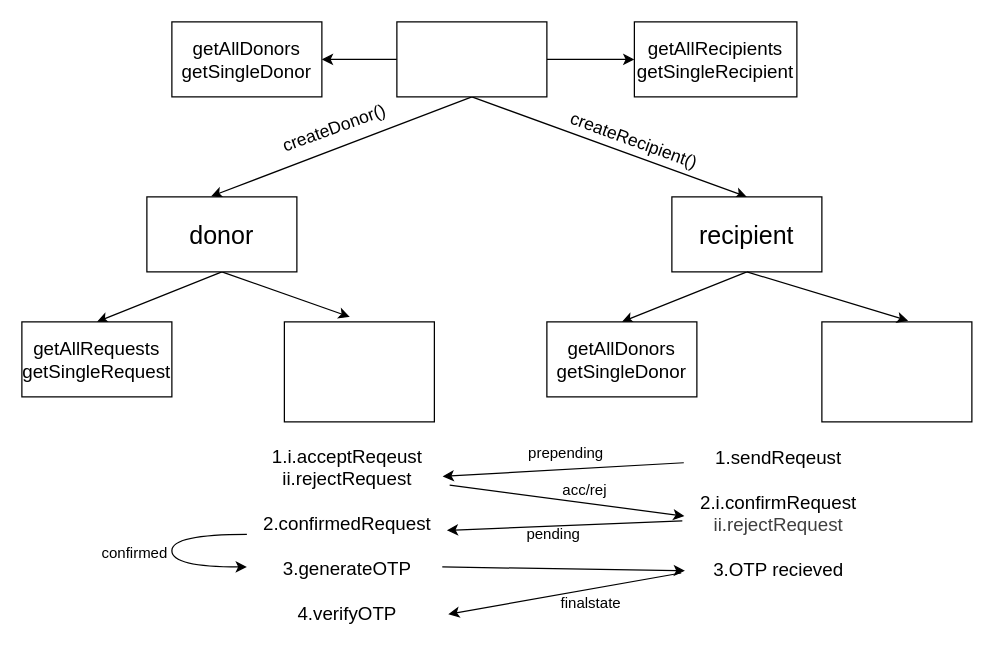
The diagram is 996 pixels wide and 656 high, and some of its shapes have lost their labels. Here are the shapes that lost their labels. From the top down, the centre of each, then its label:
At (x=471, y=59): "auth".
At (x=358, y=371): "1.i.acceptReqeust ii.rejectRequest 2.confirmRequest 3.generateOTP".
At (x=896, y=371): "1.sendReqeust 2.i.confirmRequest ii.rejectRequest 3.verifyOTP".
